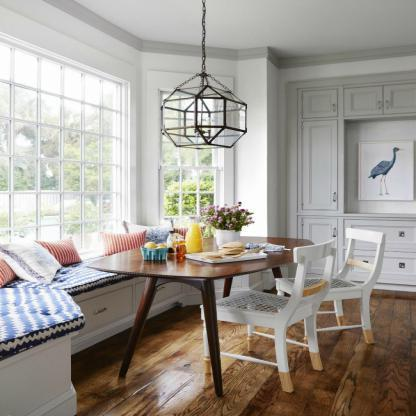chair: (203, 243, 337, 383), (280, 217, 389, 345)
light: (152, 0, 262, 163)
sofa: (0, 227, 218, 338)
table: (87, 239, 319, 394)
